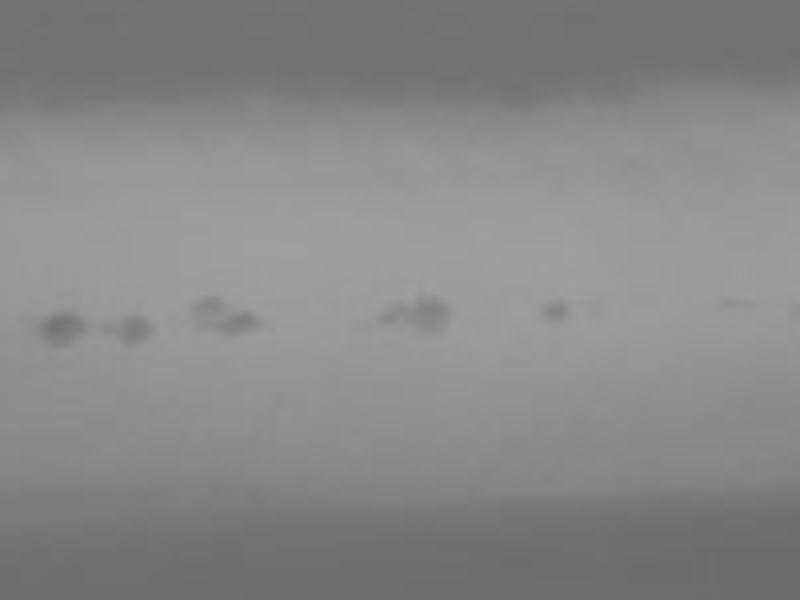defect: (404, 292, 451, 335), (39, 311, 85, 343), (219, 309, 258, 334), (122, 313, 150, 344), (184, 293, 220, 315), (539, 296, 565, 322), (581, 293, 606, 319), (377, 298, 402, 322), (96, 319, 115, 337)
